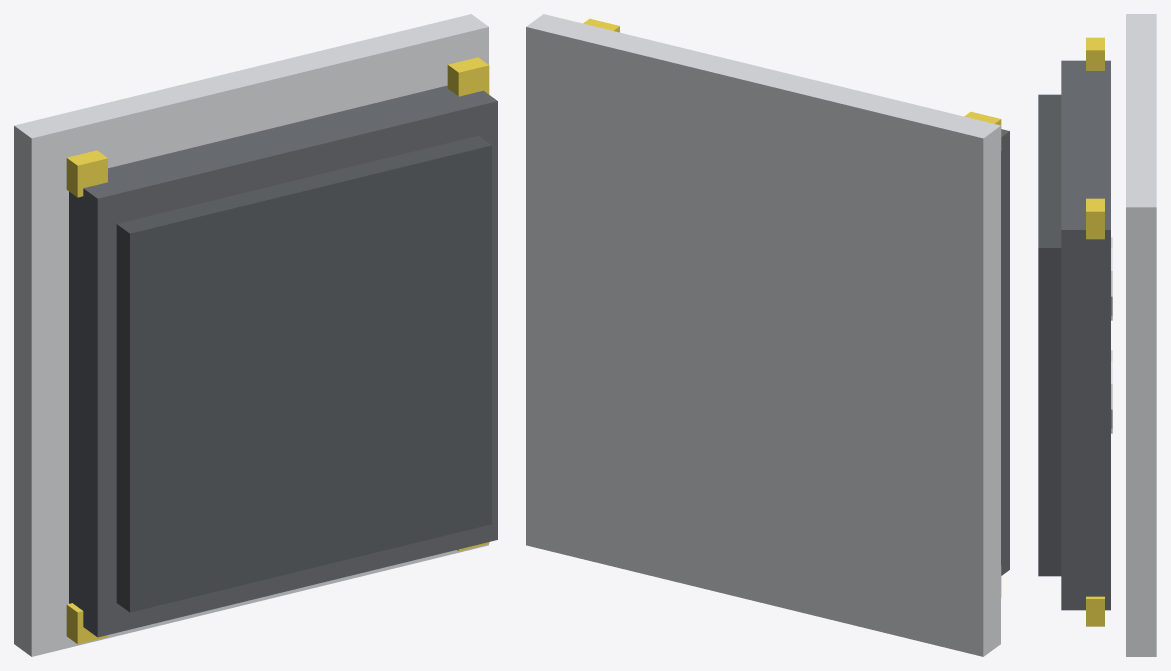
File: ferry-terminal-and-harbour-crossing-ferry-terminal-and-6bc713b9__35626.glb
The picture shows the model from 3 angles, left to right: view 1: azimuth 30°, elevation 25°; view 2: azimuth 150°, elevation 25°; view 3: azimuth 270°, elevation 25°; orthographic projection. The views are drawn at different scales.
Visible parts, largest first — view 1: ferry-terminal-and-harbour-crossing-quay-fender-panel; view 2: ferry-terminal-and-harbour-crossing-quay-fender-panel; view 3: ferry-terminal-and-harbour-crossing-quay-fender-panel.
Boxes of the visible parts, <box> form: ferry-terminal-and-harbour-crossing-quay-fender-panel: <box>14,14,497,656</box>; ferry-terminal-and-harbour-crossing-quay-fender-panel: <box>526,14,1009,656</box>; ferry-terminal-and-harbour-crossing-quay-fender-panel: <box>1038,14,1156,656</box>.
Size of the model in its own units: 2.4 by 2.6 by 0.62.
